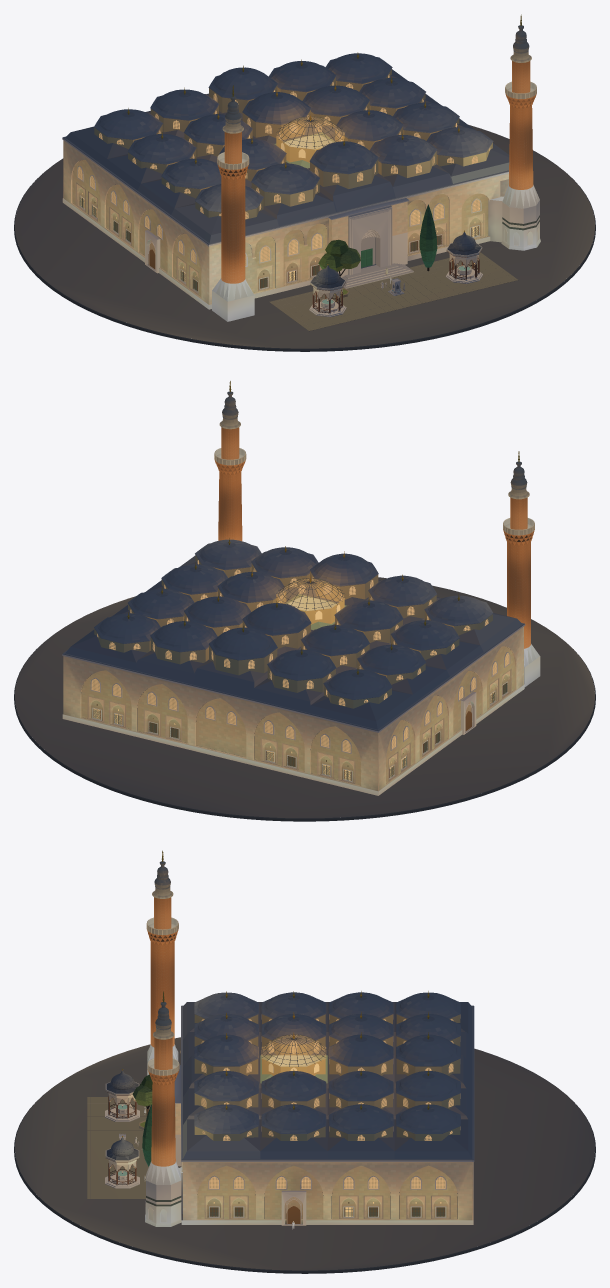
Rendered from ulu-cami_v27_night_sunum.glb.
The picture shows the model from 3 angles, top to bottom: view 1: azimuth 30°, elevation 25°; view 2: azimuth 150°, elevation 25°; view 3: azimuth 270°, elevation 25°; orthographic projection.
Visible parts, largest first — view 1: Zemin_Kaide, Kubbeler_19, Cati, Cephe_Kuzey, Cephe_Dogu, Minare_1, Zemin_Avlu_Tas, Minare_2, Pencere_Girintileri, Tac_Kapi, Sadirvan_Kubbe, Giris_Cikintili_Blok (+10 smaller); view 2: Zemin_Kaide, Kubbeler_19, Cephe_Guney, Cati, Cephe_Dogu, Pencere_Girintileri, Minare_2, Minare_1, Mermer_Bant, Sadirvan_Kubbe, Kasnak_Pencereleri, Silme_Ust (+2 smaller); view 3: Zemin_Kaide, Kubbeler_19, Cephe_Bati, Cati, Minare_1, Zemin_Avlu_Tas, Minare_2, Pencere_Girintileri, Sadirvan_Kubbe, Kasnak_Pencereleri, Mermer_Bant, Avlu_Sadirvan_Bati (+5 smaller).
Boxes of the visible parts, x1,y1,x2,y2 form: Zemin_Kaide: [14, 124, 595, 351]; Kubbeler_19: [94, 53, 493, 219]; Cati: [62, 69, 509, 244]; Cephe_Kuzey: [208, 173, 508, 304]; Cephe_Dogu: [64, 141, 208, 304]; Minare_1: [488, 14, 540, 250]; Zemin_Avlu_Tas: [269, 252, 517, 331]; Minare_2: [212, 85, 254, 321]; Pencere_Girintileri: [76, 182, 484, 295]; Tac_Kapi: [342, 206, 413, 288]; Sadirvan_Kubbe: [276, 117, 344, 162]; Giris_Cikintili_Blok: [328, 198, 409, 277]; Zemin_Kaide: [14, 577, 595, 821]; Kubbeler_19: [94, 539, 493, 708]; Cephe_Guney: [63, 656, 378, 790]; Cati: [63, 556, 524, 731]; Cephe_Dogu: [379, 627, 523, 790]; Pencere_Girintileri: [87, 669, 511, 783]; Minare_2: [503, 451, 540, 686]; Minare_1: [214, 381, 246, 541]; Mermer_Bant: [62, 684, 524, 795]; Sadirvan_Kubbe: [276, 578, 344, 624]; Kasnak_Pencereleri: [97, 560, 488, 705]; Silme_Ust: [62, 624, 525, 732]; Zemin_Kaide: [14, 1037, 595, 1273]; Kubbeler_19: [194, 992, 460, 1140]; Cephe_Bati: [183, 1162, 471, 1223]; Cati: [181, 1002, 473, 1160]; Minare_1: [145, 991, 182, 1226]; Zemin_Avlu_Tas: [87, 1097, 152, 1198]; Minare_2: [146, 850, 178, 1075]; Pencere_Girintileri: [204, 1195, 450, 1218]; Sadirvan_Kubbe: [261, 1035, 325, 1075]; Kasnak_Pencereleri: [201, 1014, 460, 1140]; Mermer_Bant: [181, 1162, 473, 1224]; Avlu_Sadirvan_Bati: [105, 1136, 139, 1188].
Size of the model in its own units: 111 by 48.52 by 111.
53 materials, 10 textured.
